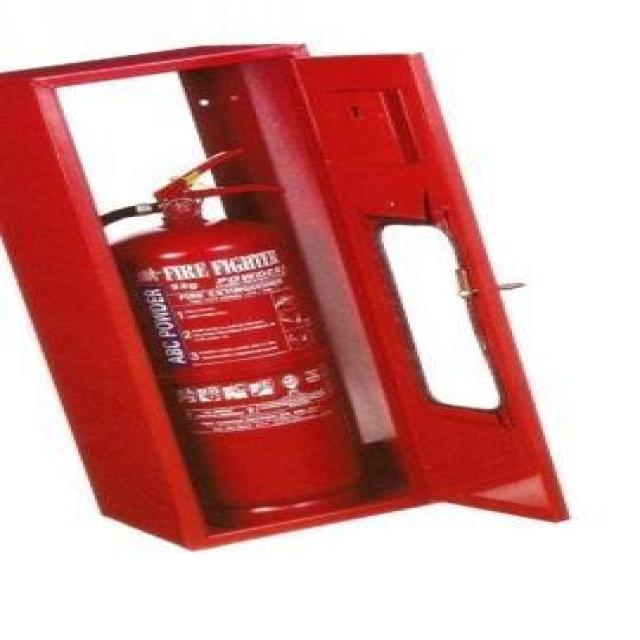fire_extinguisher: (46, 140, 376, 531)
